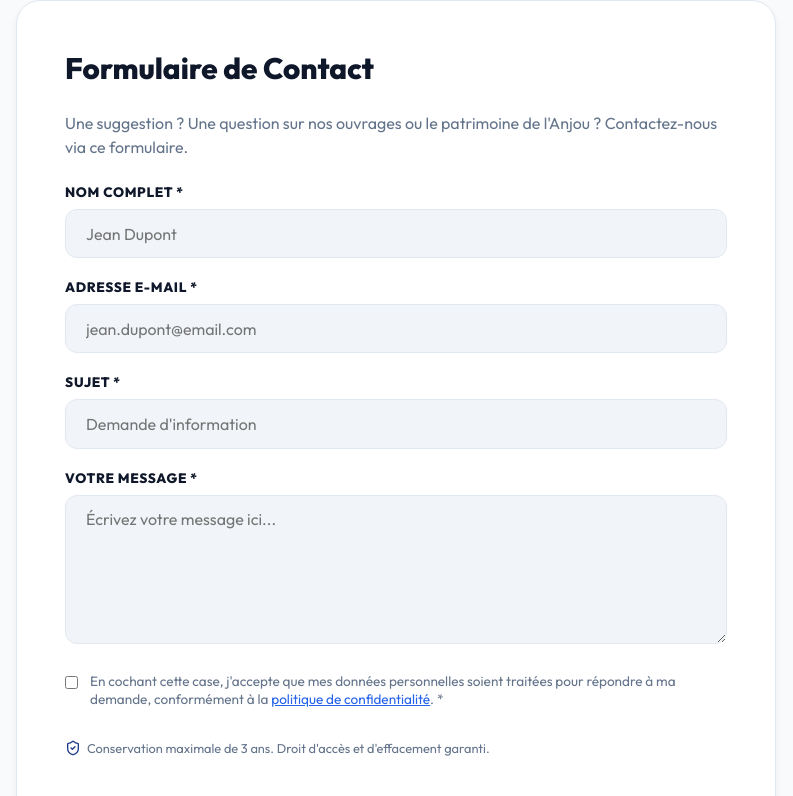
Test: ContactForm Component Tests › submits successfully when online and GDPR consent is given
Type "Jeremy Veille" into the field with placeholder "Jean Dupont" at (396, 234), box [65,209,727,258]
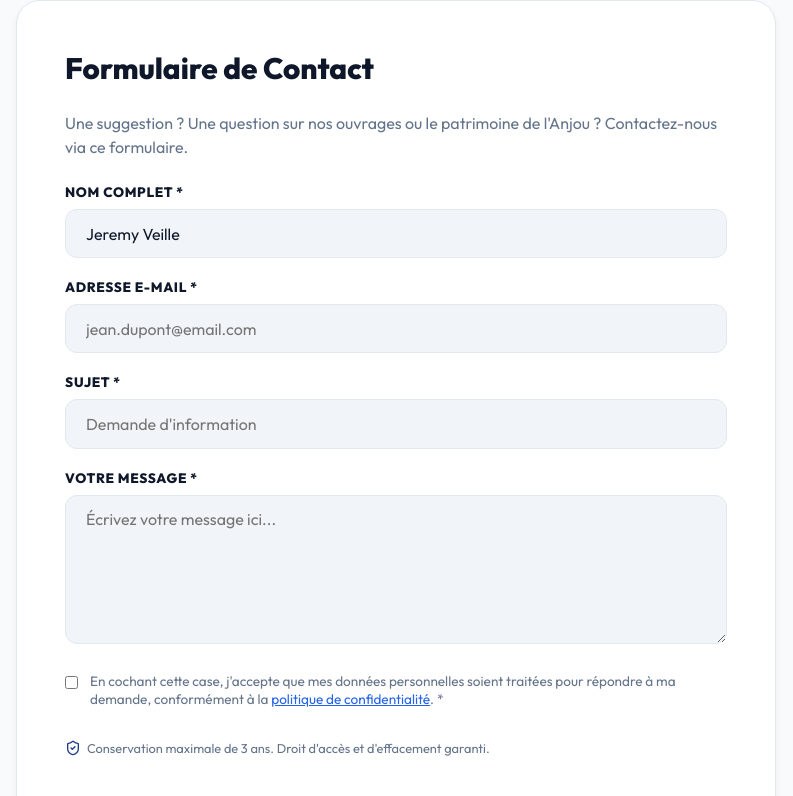
Type "jeremy@example.com" into the field with placeholder "jean.dupont@email.com" at (396, 329), box [65,304,727,353]
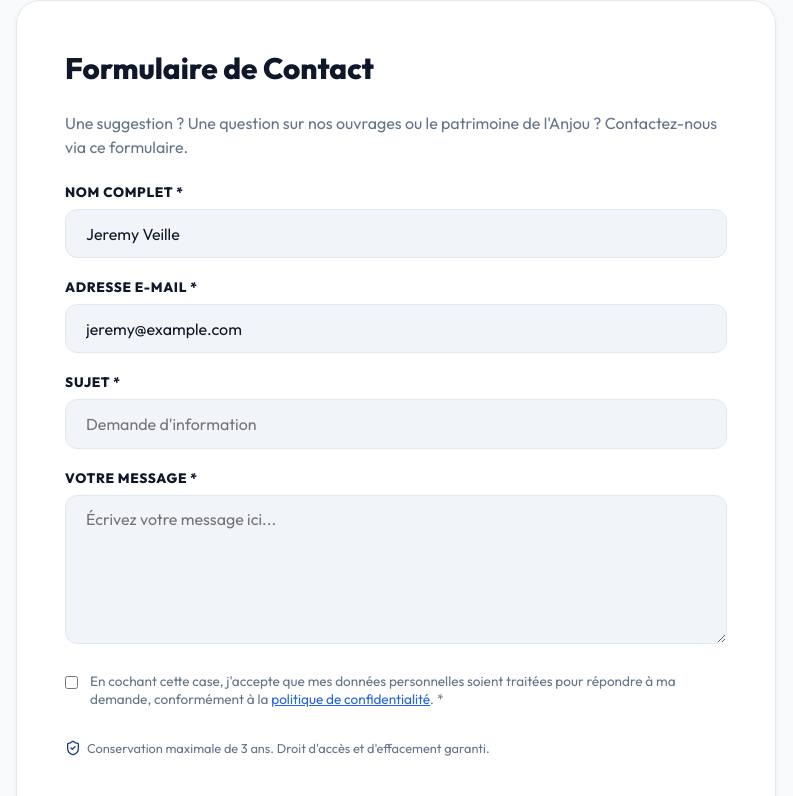
Type "Question livre" into the field with placeholder "Demande d'information" at (396, 424), box [65,399,727,449]
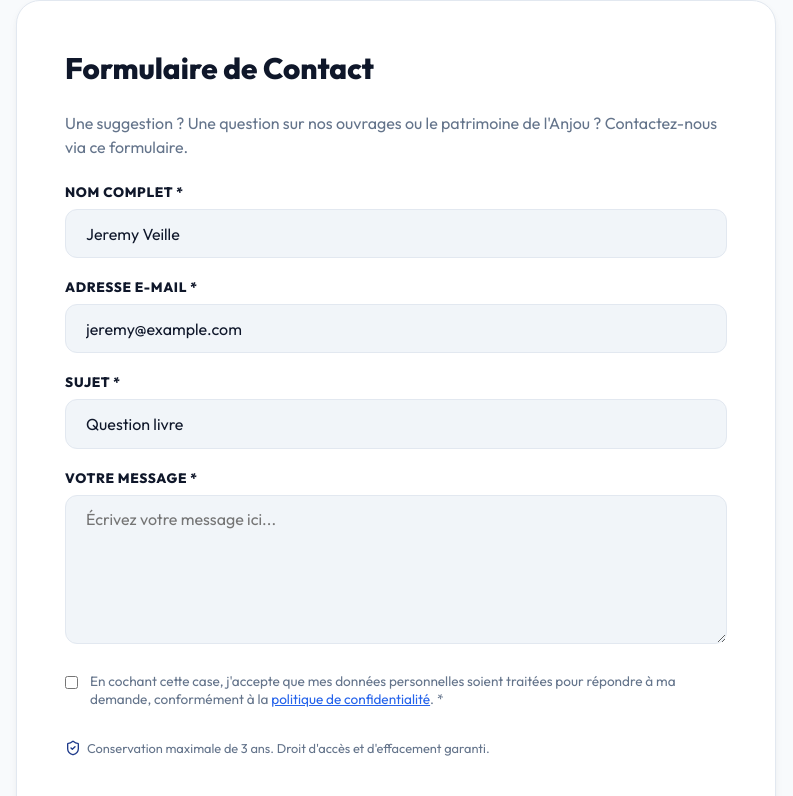
Type "Message en ligne." into the text box with placeholder "Écrivez votre message ici..." at (396, 569), box [65,495,727,644]
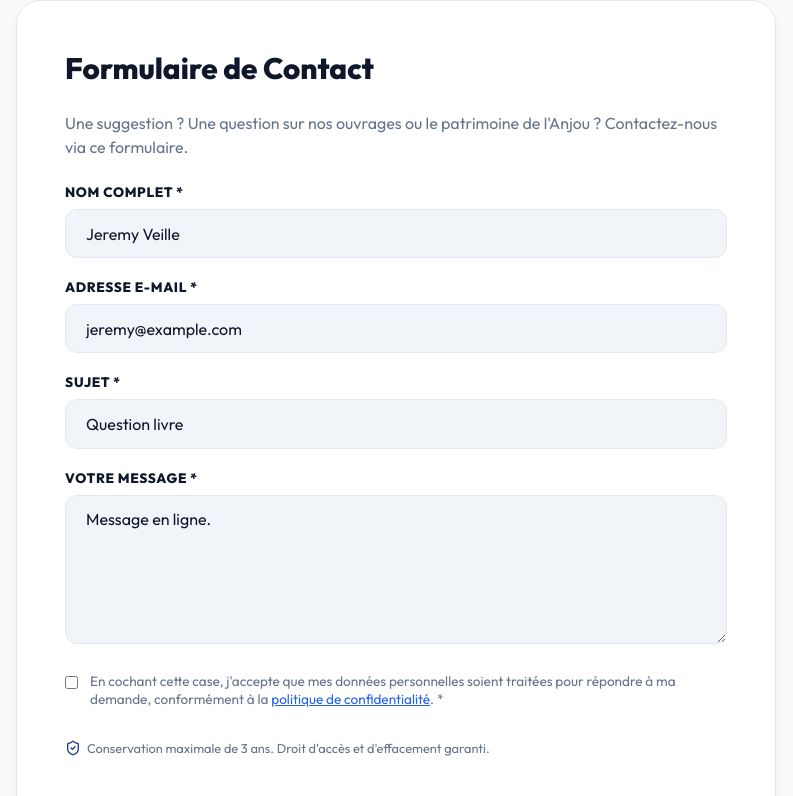
Click the checkbox at (72, 682), box [65,676,78,689]
(page scrolled)
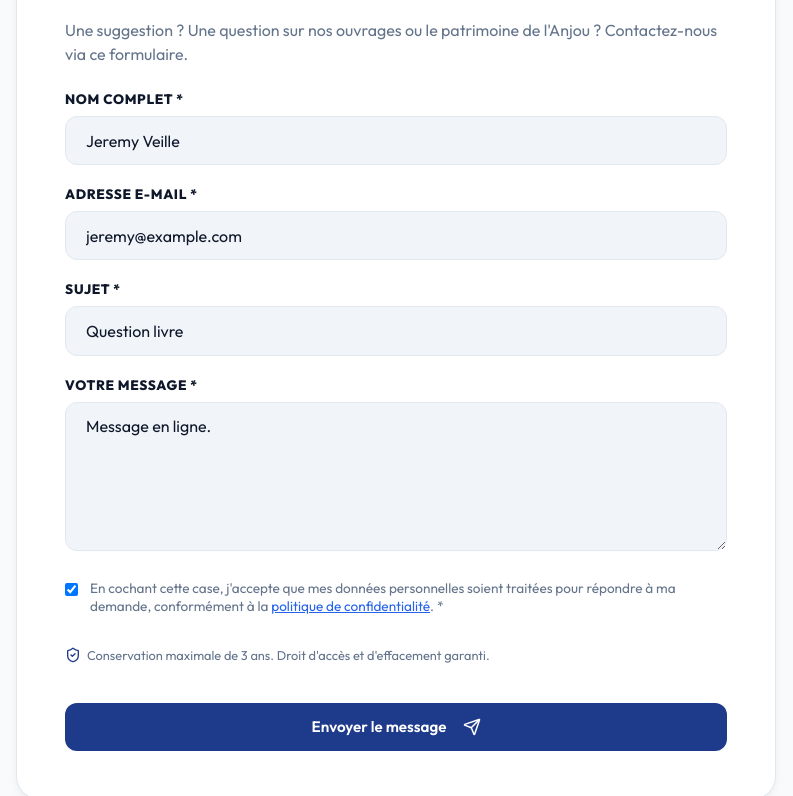
Click the button "Envoyer le message" at (396, 727), box [65,703,727,751]
(page scrolled)
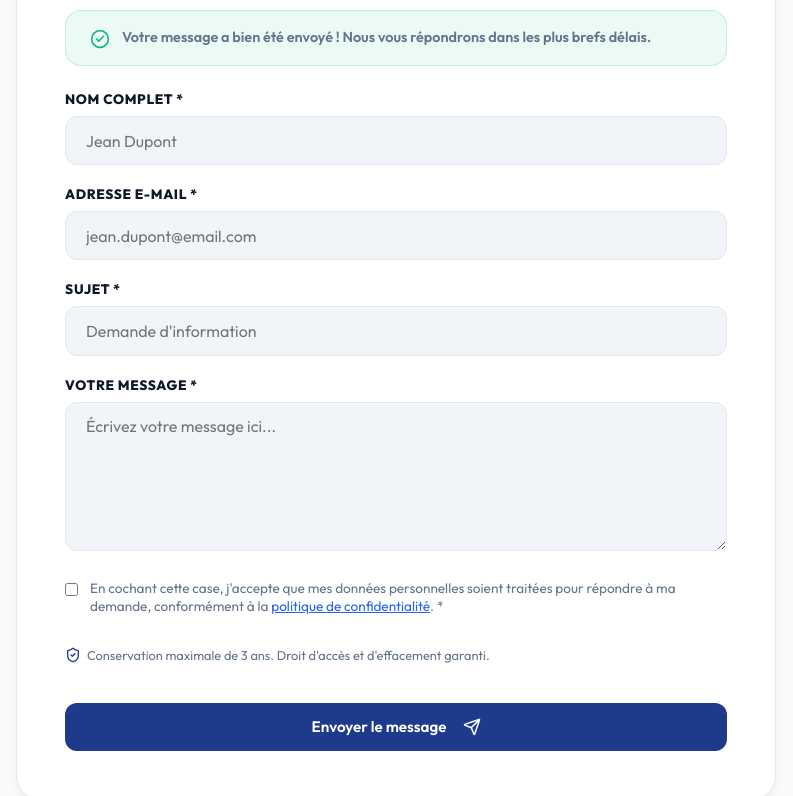
Result: the text "Votre message a bien été envoyé" is shown at [122,28,651,46]
